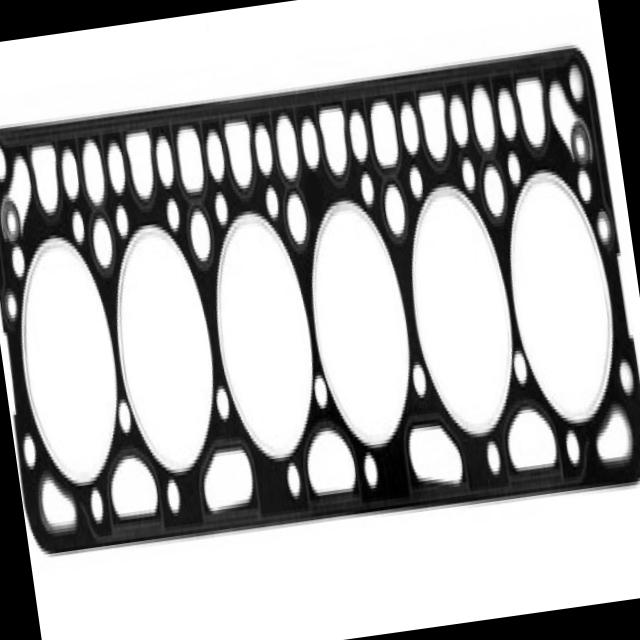missing hole: (301, 171, 327, 235)
